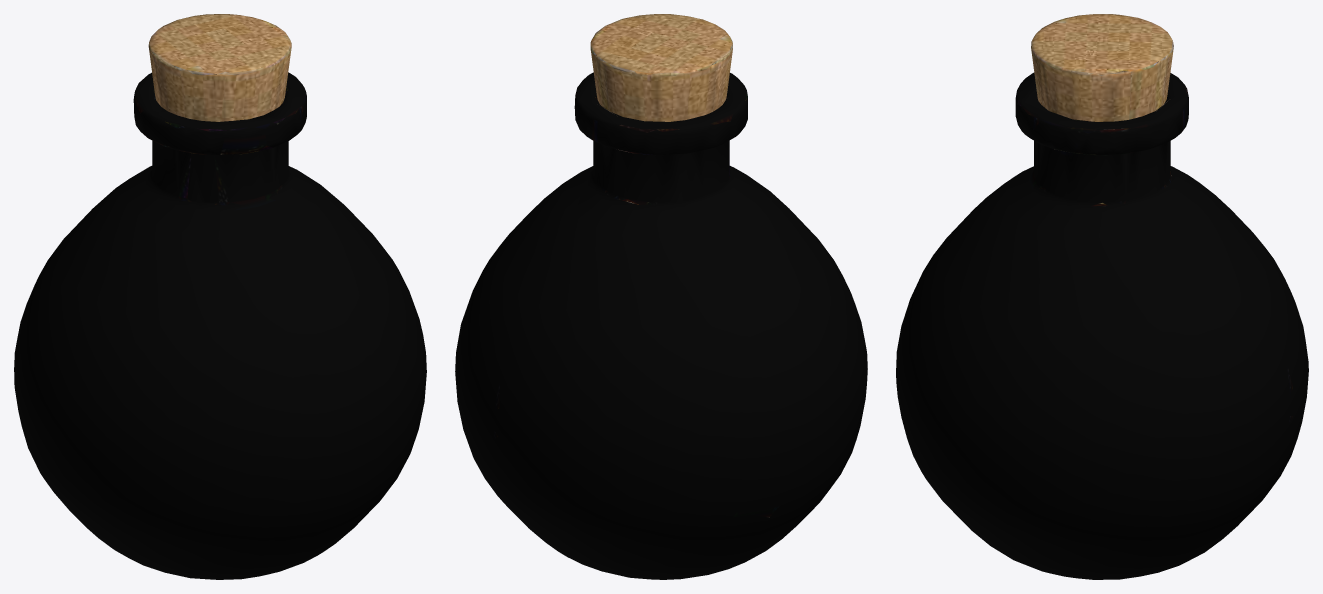
Rendered from vase_9c502a52_visual.obj.
3 renders of one model, left to right at view 1: azimuth 30°, elevation 25°; view 2: azimuth 150°, elevation 25°; view 3: azimuth 270°, elevation 25°, orthographic.
Size of the model in its own units: 0.1112 by 0.15 by 0.1114.
Materials: 1 (1 with a texture image).
